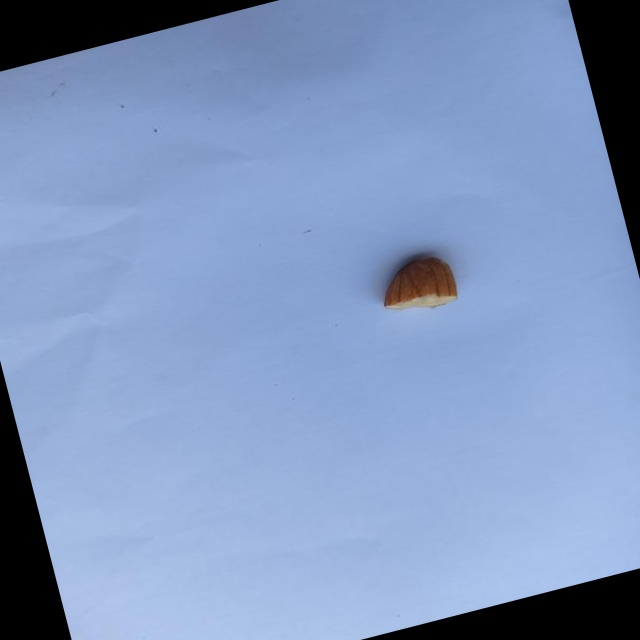grade4: (365, 243, 469, 326)
